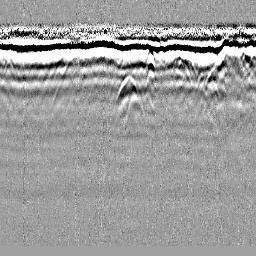cavity: (111, 74, 146, 118)
